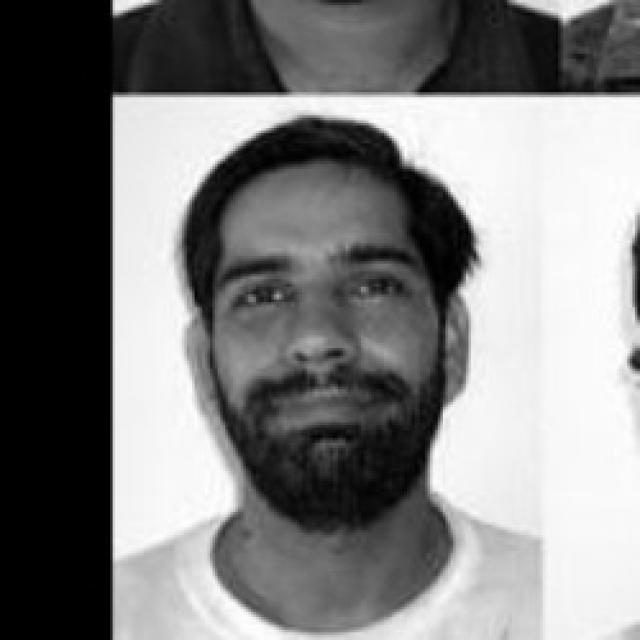real: (180, 141, 484, 536), (229, 268, 413, 325)
